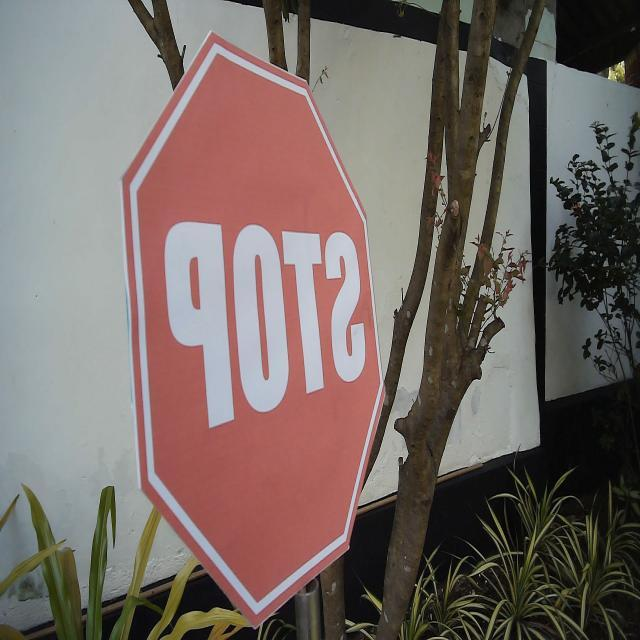stop: (116, 25, 388, 635)
